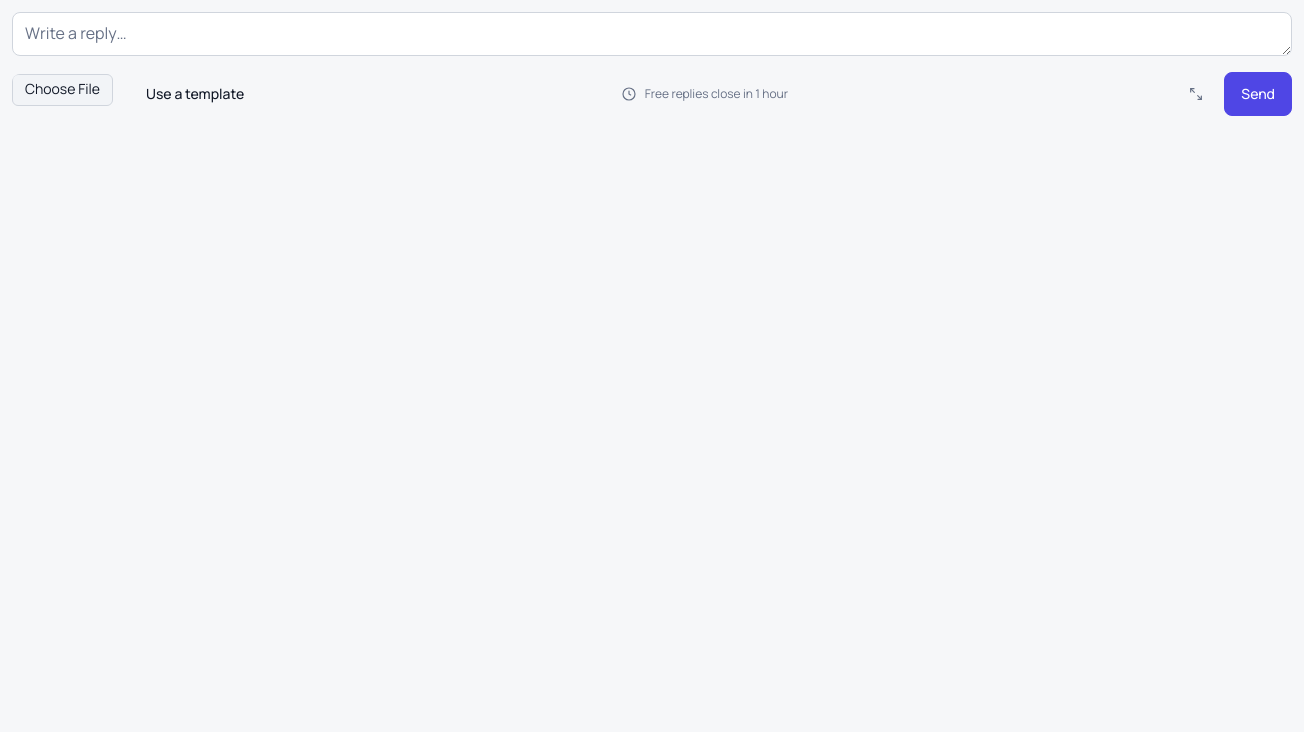
inside the 24-hour window › sends the trimmed message and clears the draft
Type "  On its way.  " into the text box with placeholder "Write a reply…" at (652, 34), box 12,12 -> 1292,56
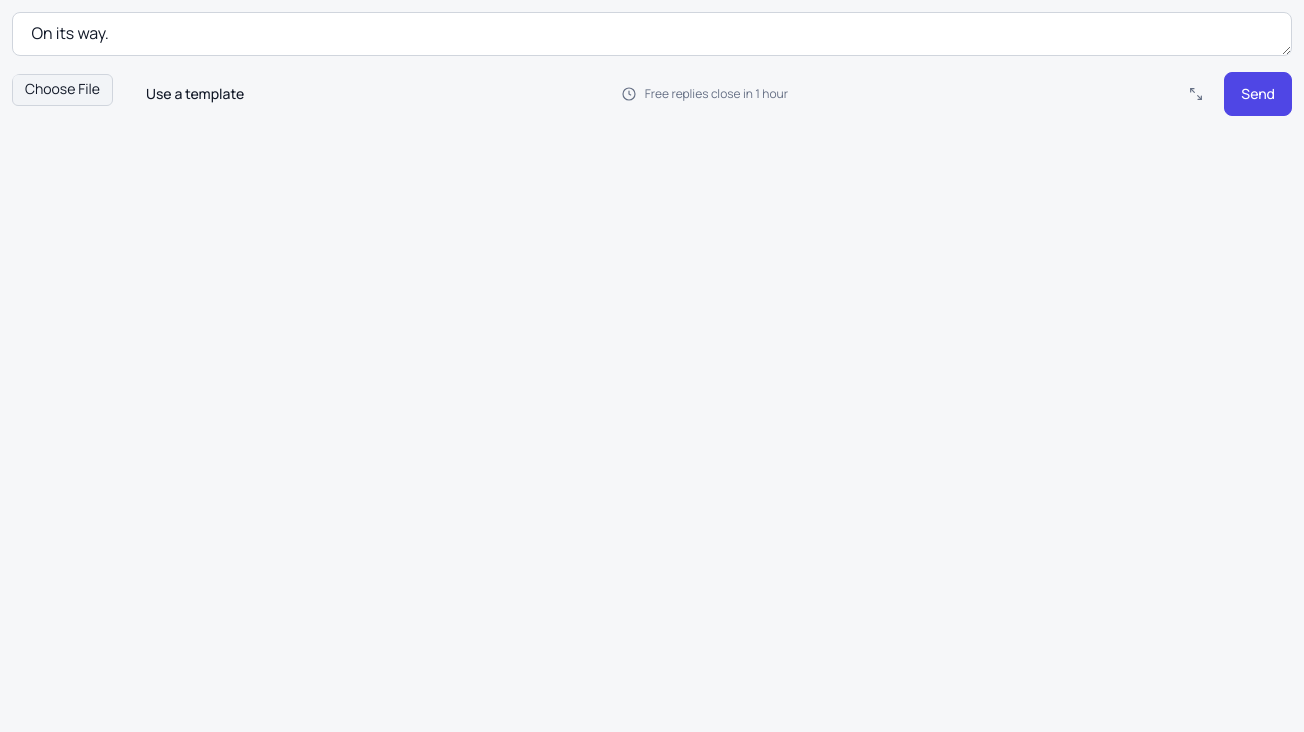
Click the button "Send" at (1258, 94), box 1224,72 -> 1292,116
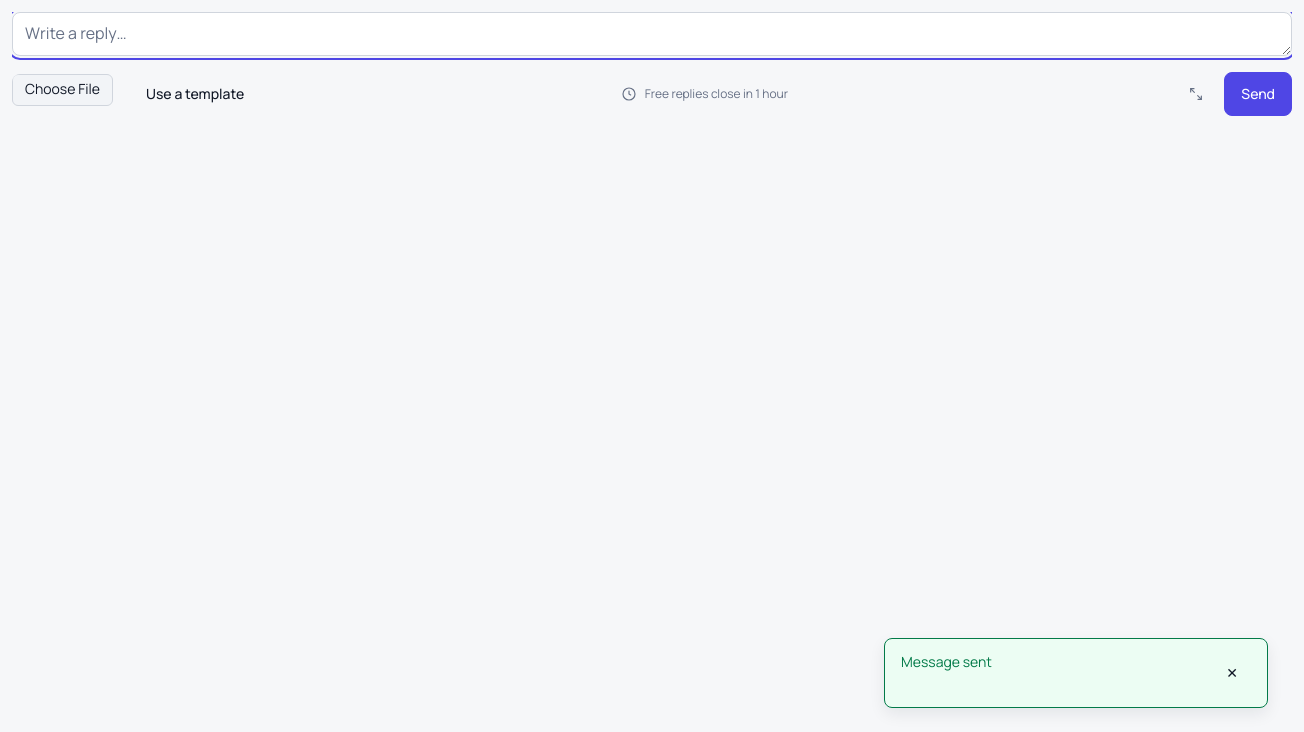
Now the text "Message sent" is shown, box 901,652 -> 992,671
